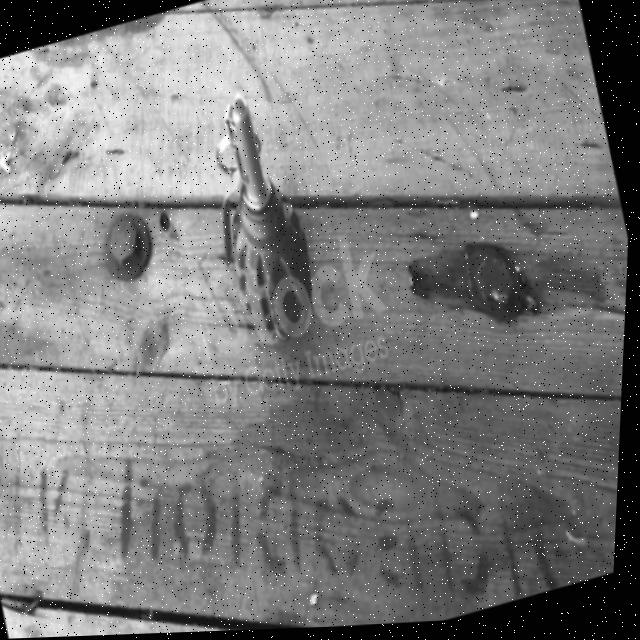grenade: (186, 85, 340, 361)
